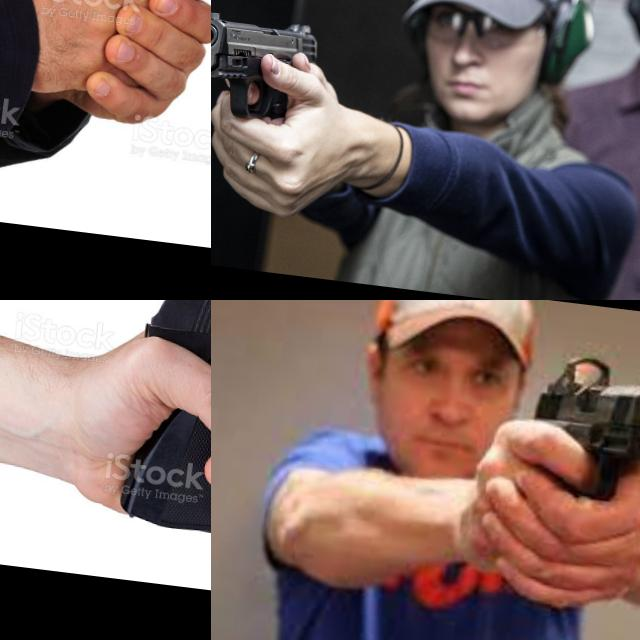handgun: (114, 300, 211, 565), (519, 344, 640, 510), (47, 0, 211, 92), (211, 5, 323, 129)
